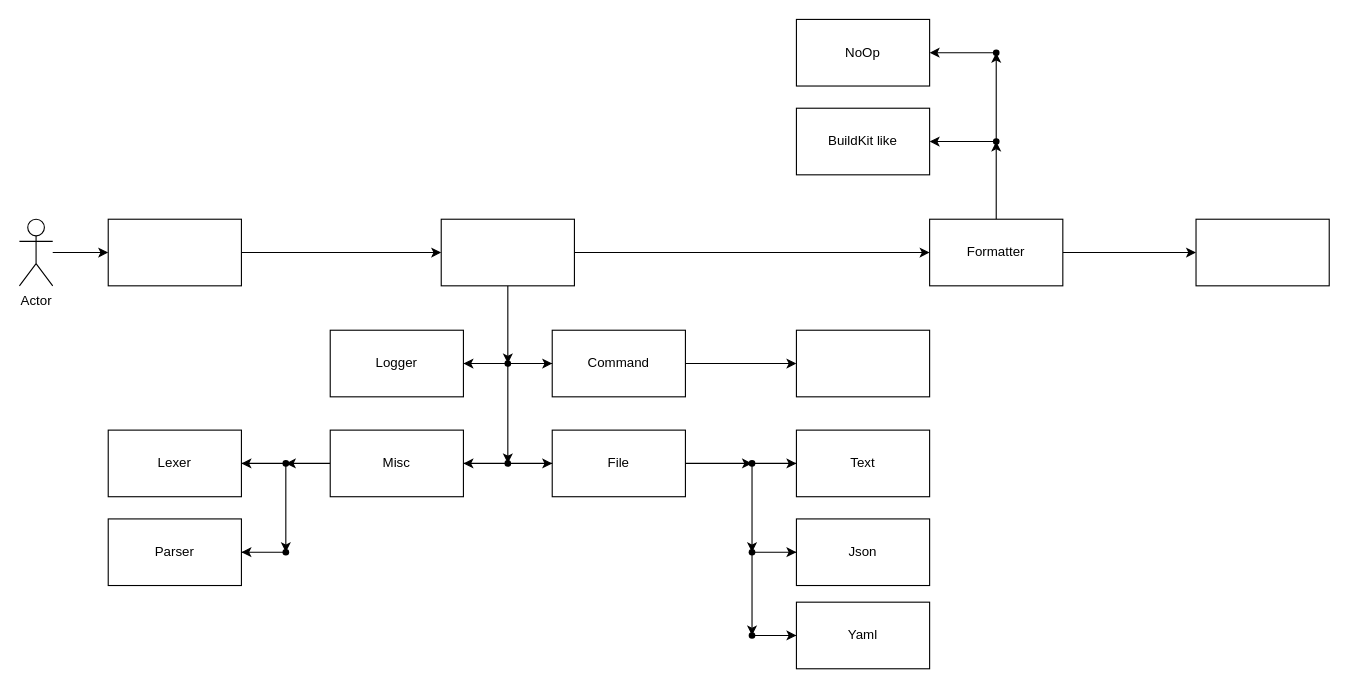
Image size: 1349x688. Some labels were removed from this diagram. Each missing label, with the centre of its shape:
Core: [507,252]
Exec: [862,363]
Input: [174,252]
Output: [1262,252]
